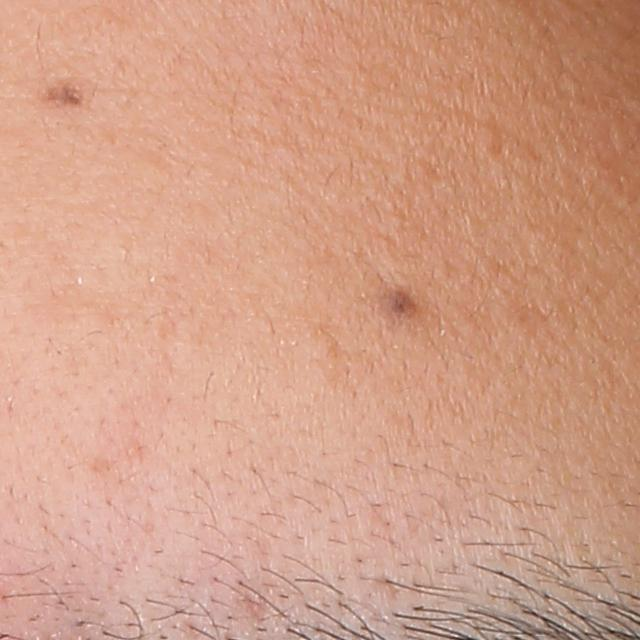comedo: (474, 119, 502, 158)
nevus: (384, 282, 422, 326), (44, 76, 91, 109)
